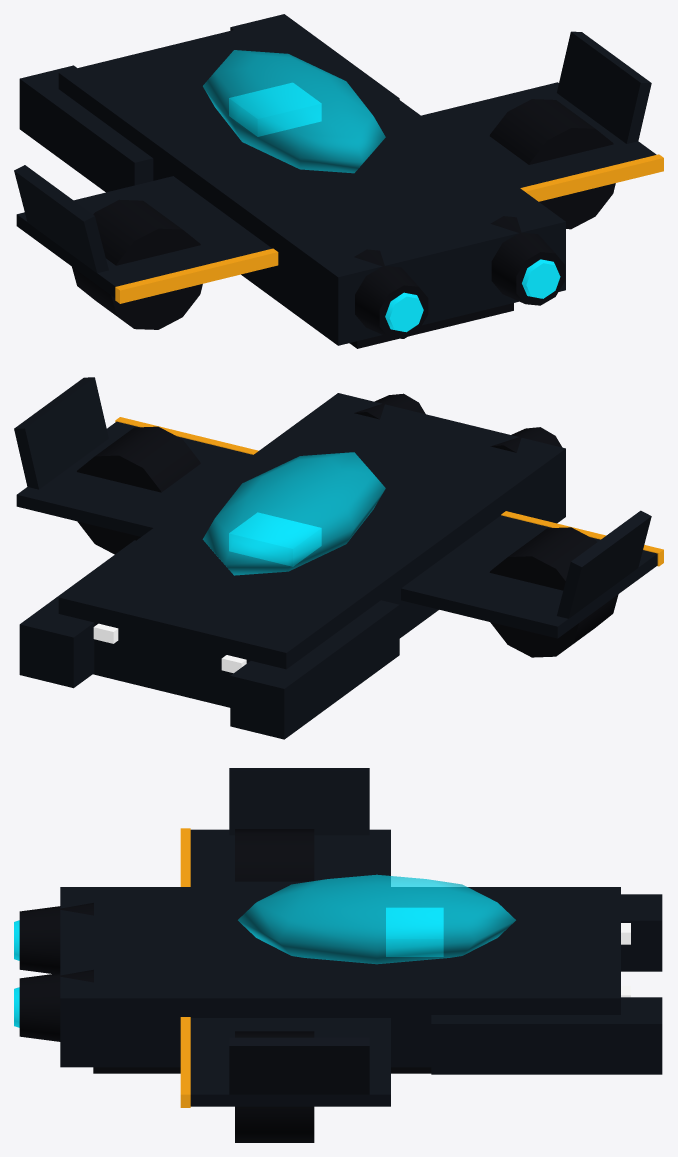
The model's file is aerodyne_spinner.glb.
The picture shows the model from 3 angles, top to bottom: view 1: azimuth 30°, elevation 25°; view 2: azimuth 150°, elevation 25°; view 3: azimuth 270°, elevation 25°; orthographic projection.
Parts seen in each view (by area): view 1: Aerodyne_Spinner_Hero; view 2: Aerodyne_Spinner_Hero; view 3: Aerodyne_Spinner_Hero.
Part boxes in pixels (x1,y1,x2,y2): Aerodyne_Spinner_Hero: (14, 14, 663, 348); Aerodyne_Spinner_Hero: (14, 377, 663, 739); Aerodyne_Spinner_Hero: (14, 768, 662, 1142).
Bounding box in the file's own units: 3.99 × 1.02 × 3.94.
